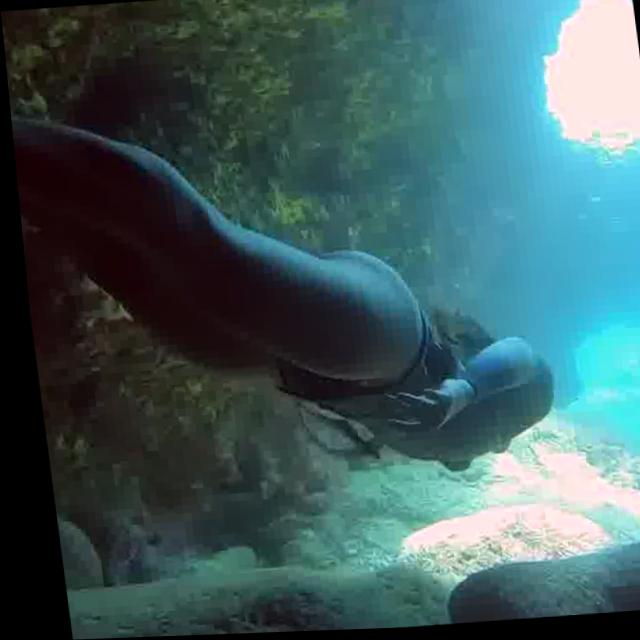human: (0, 0, 567, 518)
